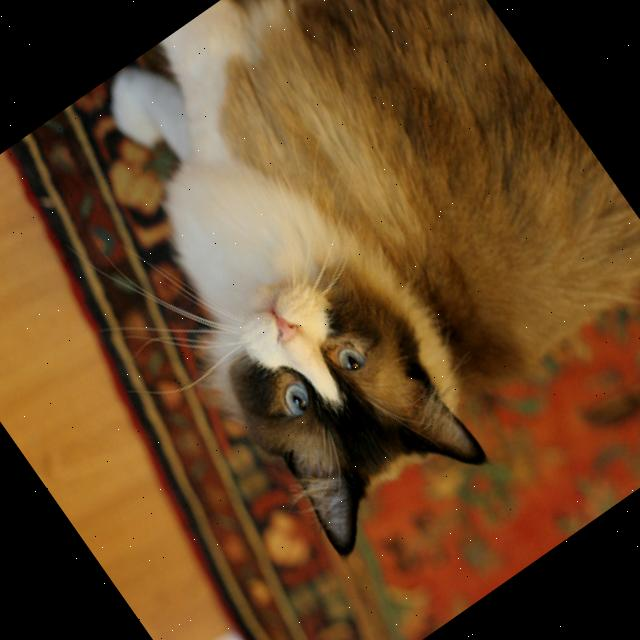cat-eye: (330, 334, 378, 385)
cat-eye-normal: (270, 374, 318, 424)
